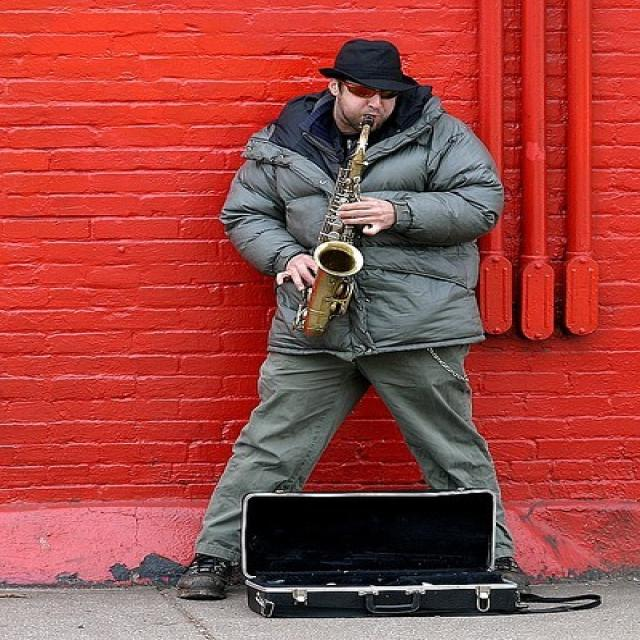saxophone: (292, 113, 376, 344)
